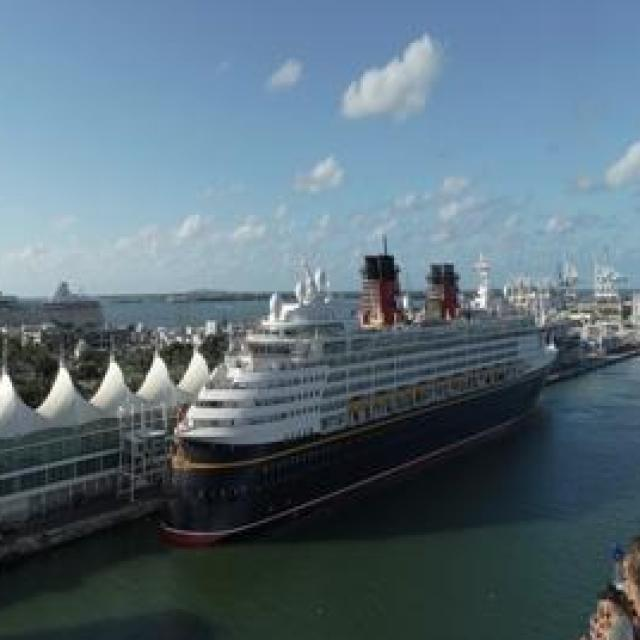passenger ship: (155, 264, 560, 540)
